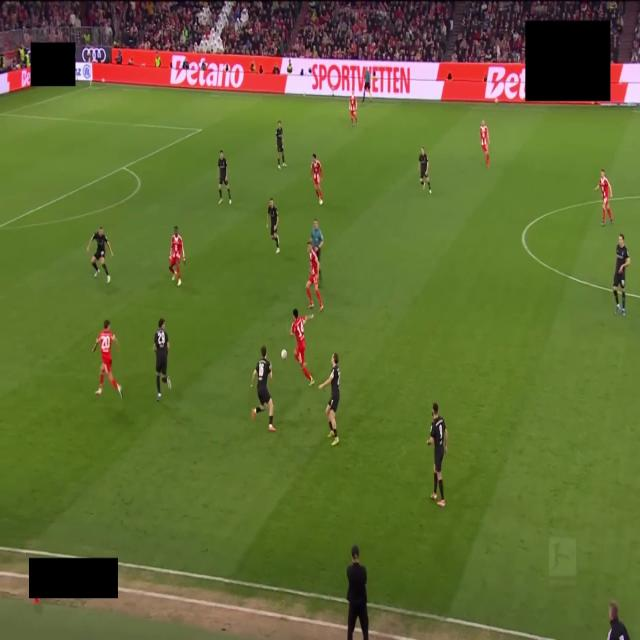ball: (281, 350, 286, 359)
player: (92, 320, 121, 397), (428, 403, 447, 507), (252, 346, 275, 431), (319, 353, 339, 445), (291, 309, 313, 385), (153, 319, 171, 400), (87, 227, 113, 283), (613, 234, 630, 315), (306, 239, 323, 311), (594, 169, 613, 225), (170, 226, 185, 286), (218, 150, 231, 204), (267, 199, 279, 253), (419, 146, 431, 193), (311, 154, 322, 205), (276, 121, 286, 168), (480, 120, 489, 167), (349, 92, 357, 126)
referee: (311, 219, 323, 260)
